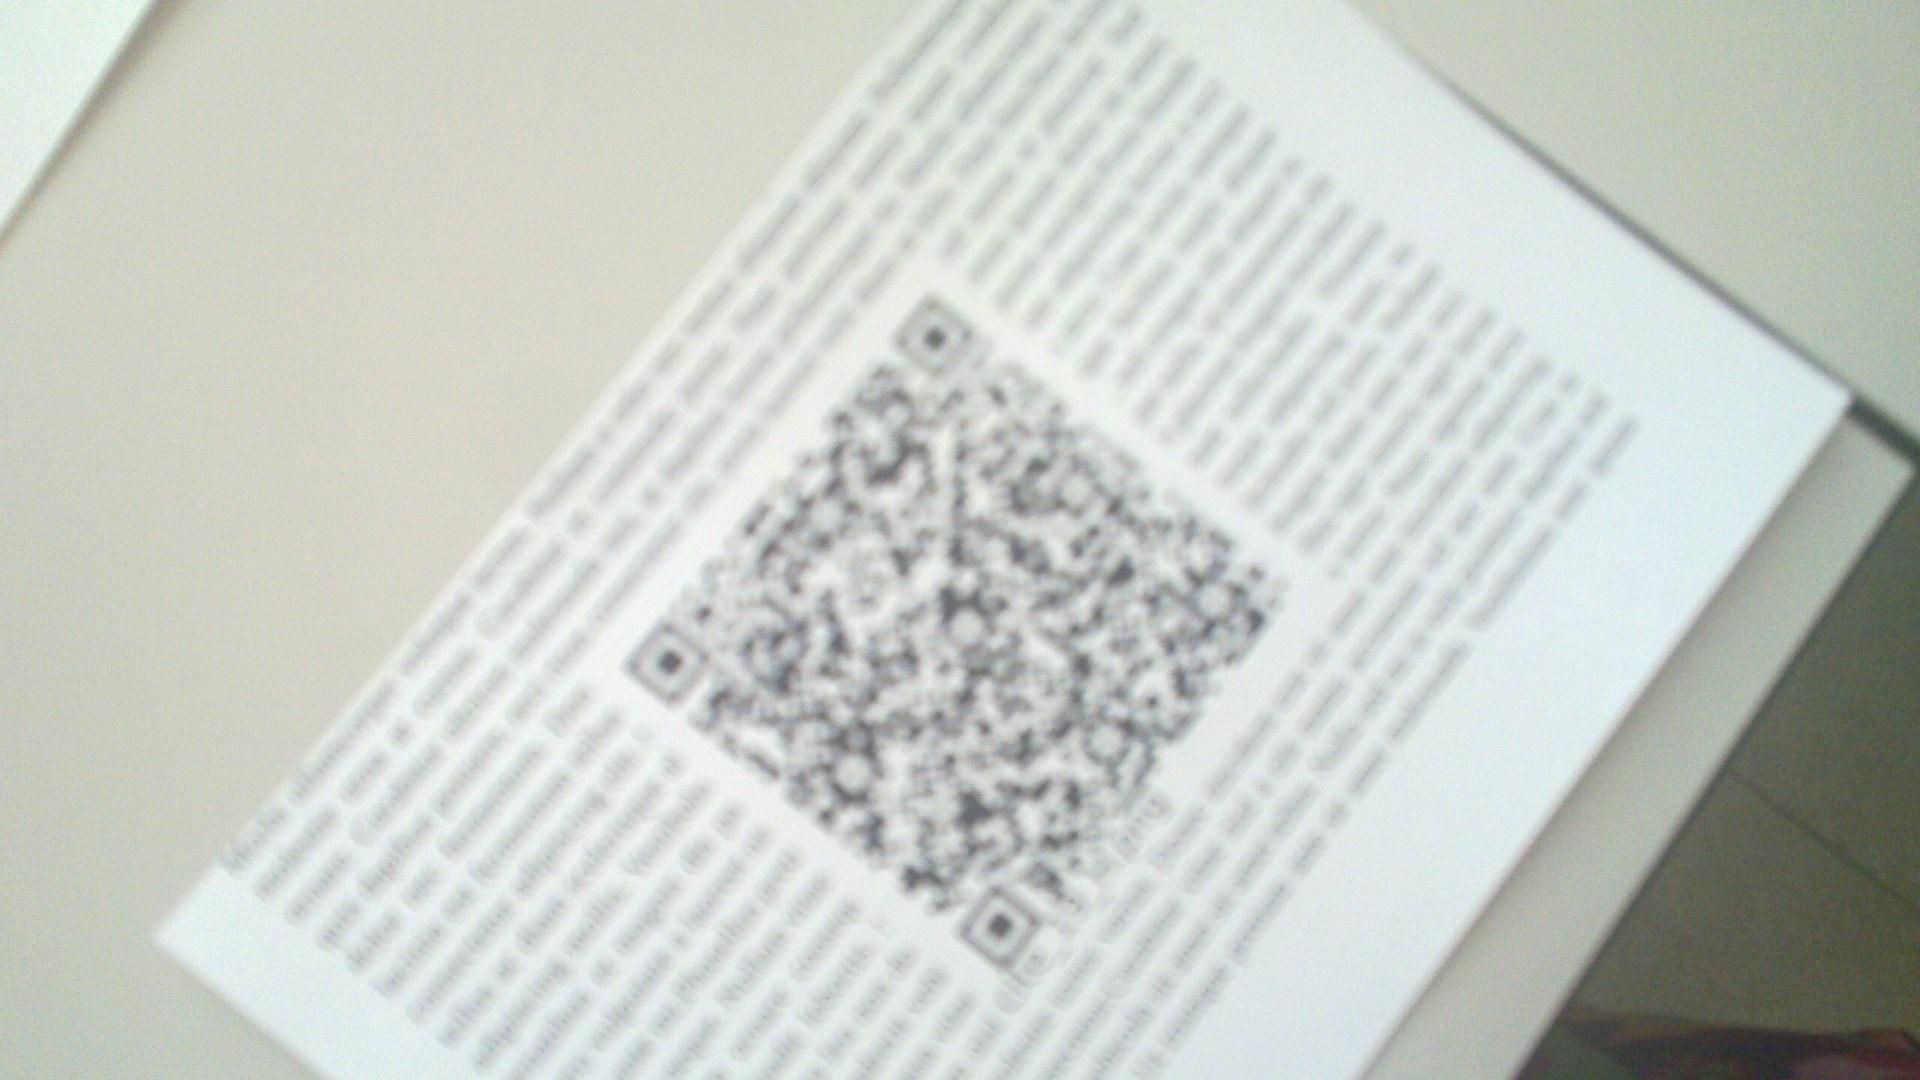Finder pattern: (953, 891, 1042, 971), (622, 625, 707, 705), (893, 305, 972, 371)
